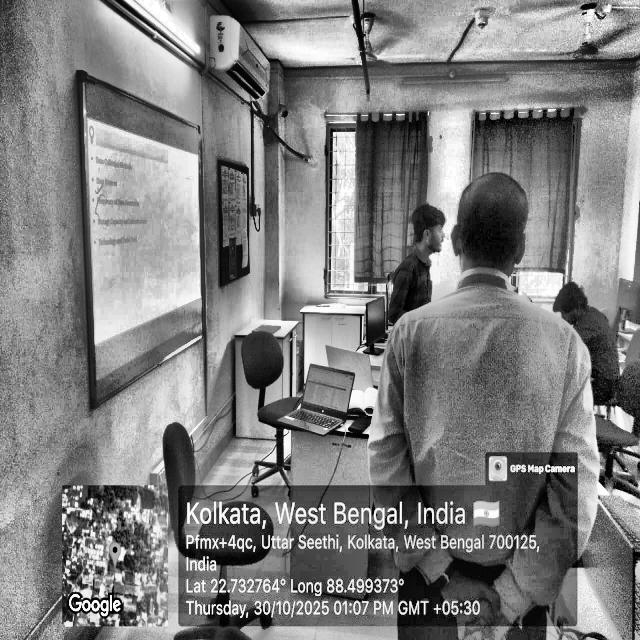Focus: (452, 174, 549, 312), (393, 192, 457, 296), (555, 252, 621, 330)
